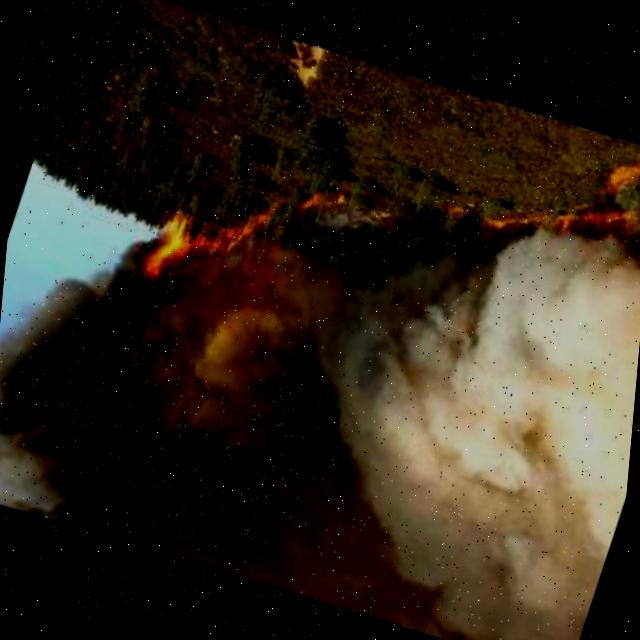fire: (0, 183, 445, 628), (467, 116, 640, 300), (135, 158, 289, 314)
